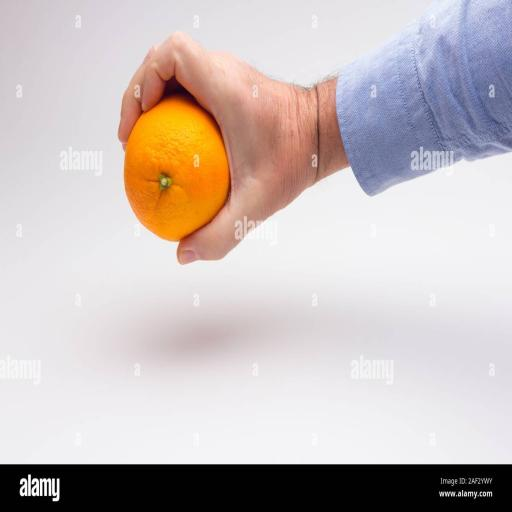orange: (125, 94, 230, 241)
